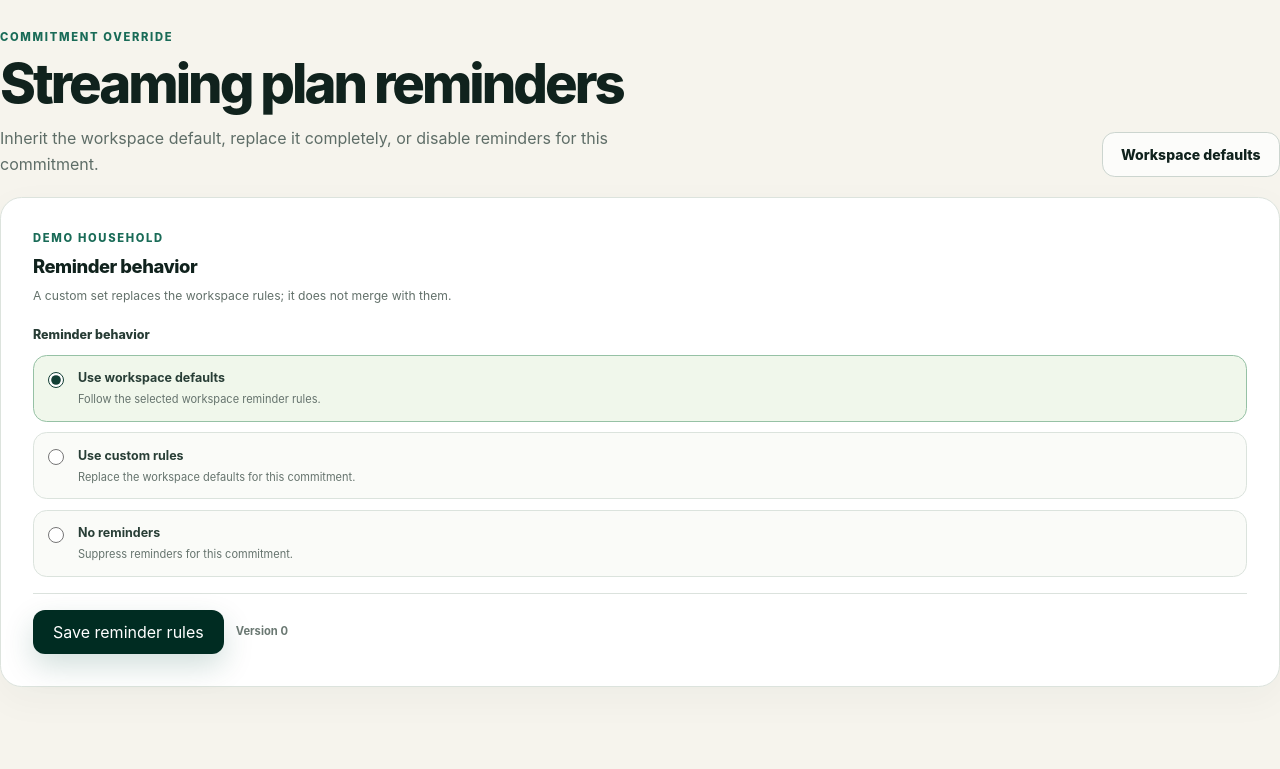
CommitmentReminderScreen › creates a custom override from synthetic version zero
Step 1. Click the radio button labelled "Use custom rules" → {"x": 56, "y": 457}, box [48,449,64,465]
(page scrolled)
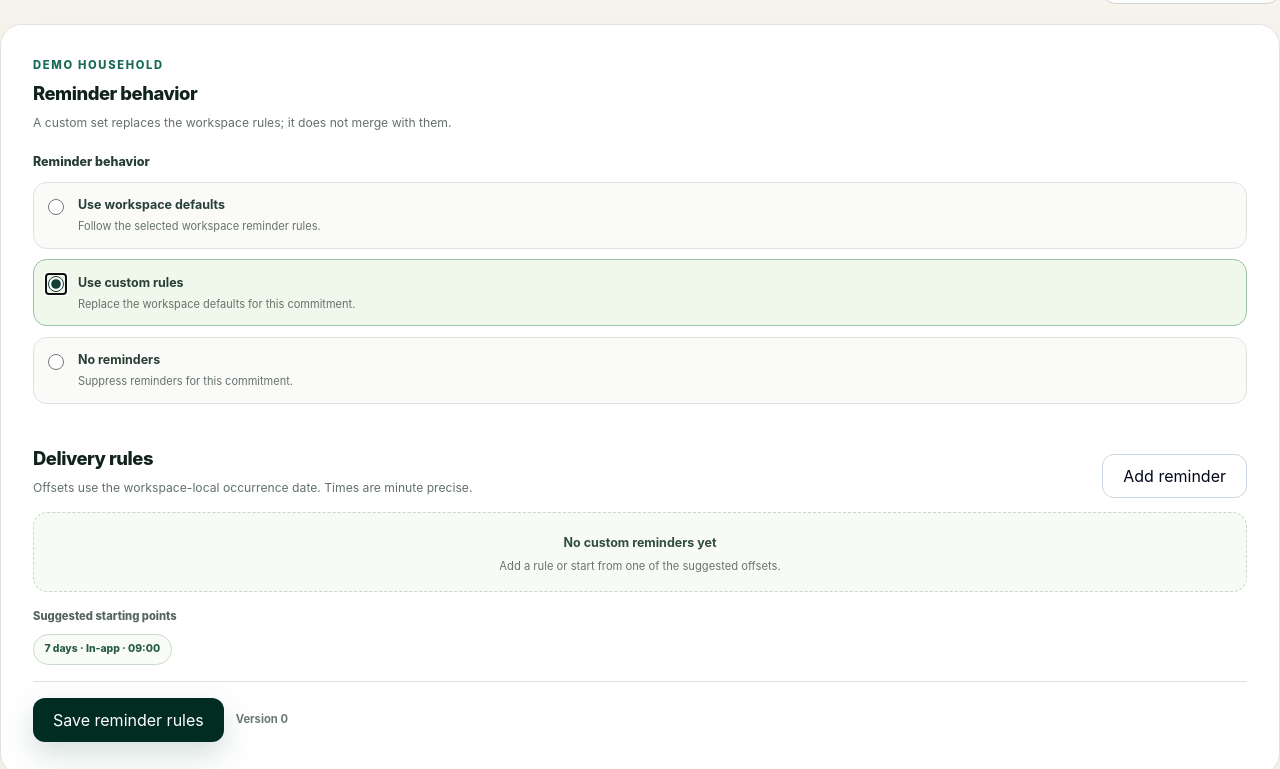
Step 2. Click the button "7 days · In-app · 09:00" → {"x": 102, "y": 649}, box [33,634,172,665]
(page scrolled)
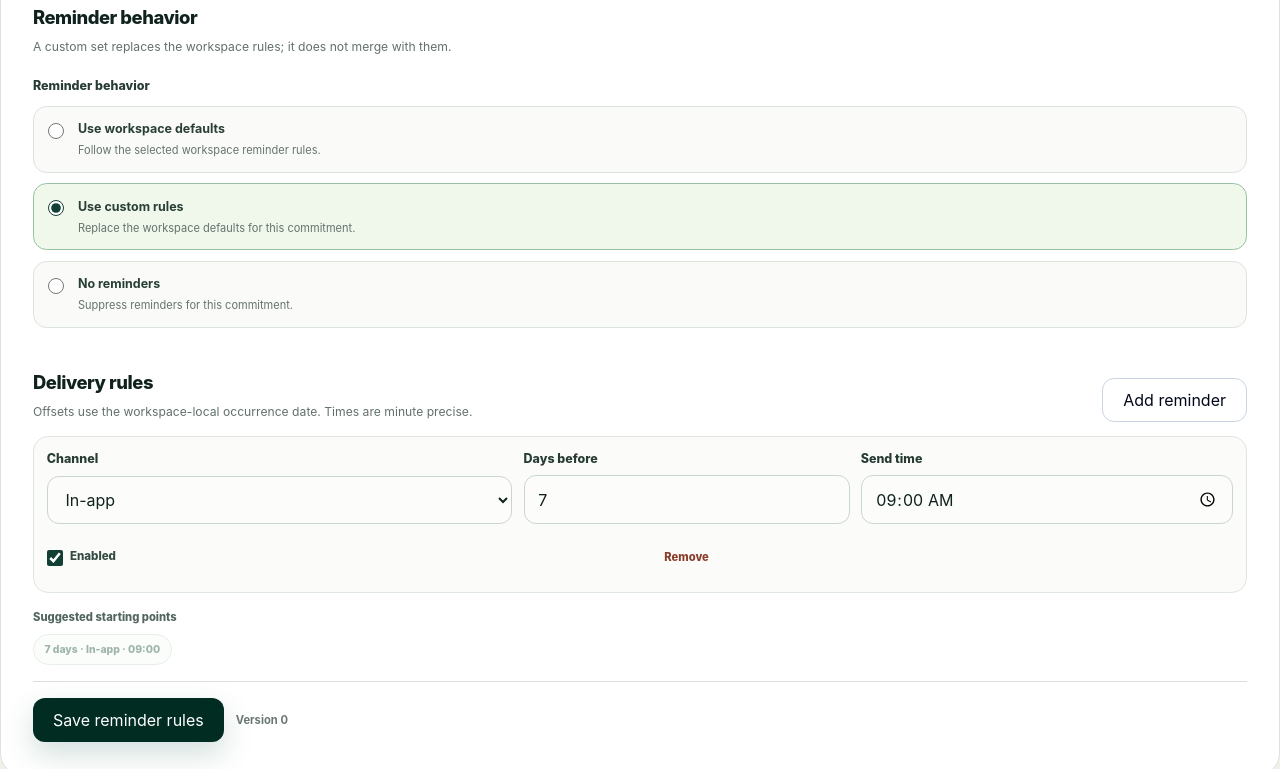
Step 3. Click the button "Save reminder rules" → {"x": 128, "y": 720}, box [33,698,224,742]
(page scrolled)
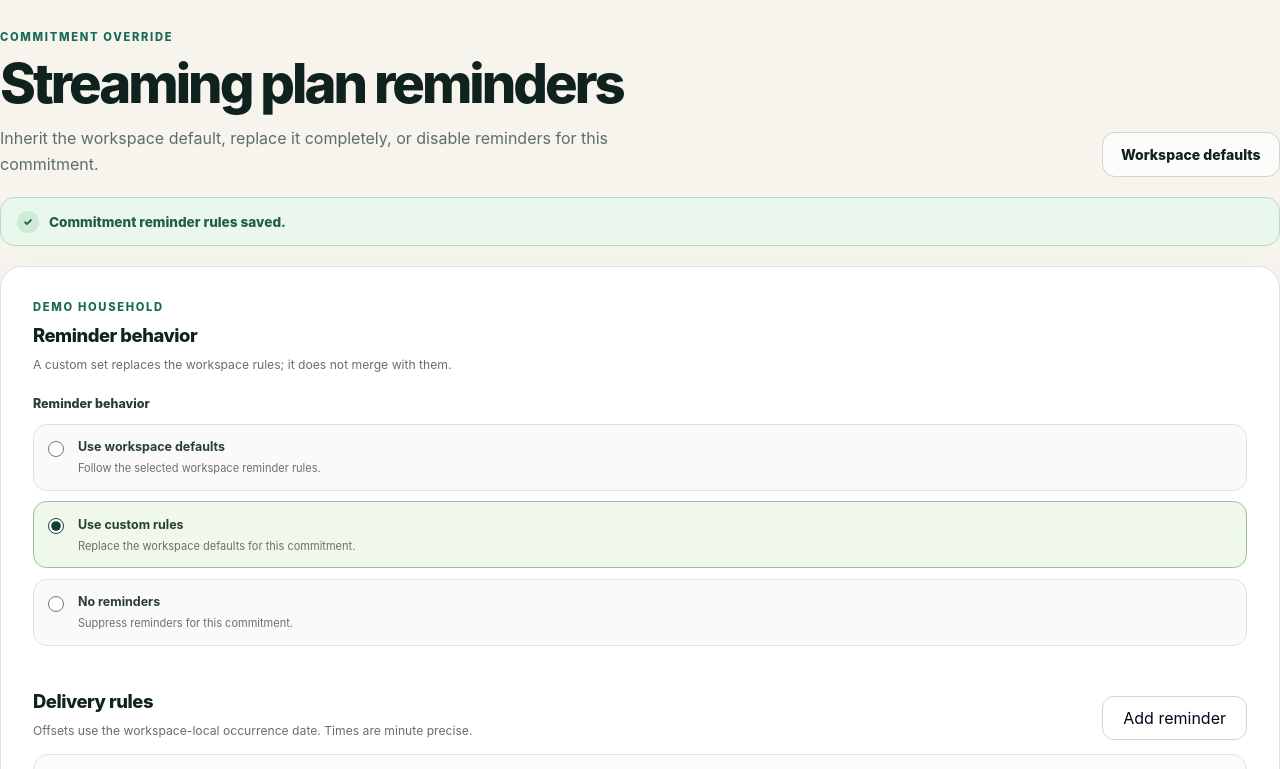
Now the text "Commitment reminder rules saved." is shown, box [49,214,286,230]
